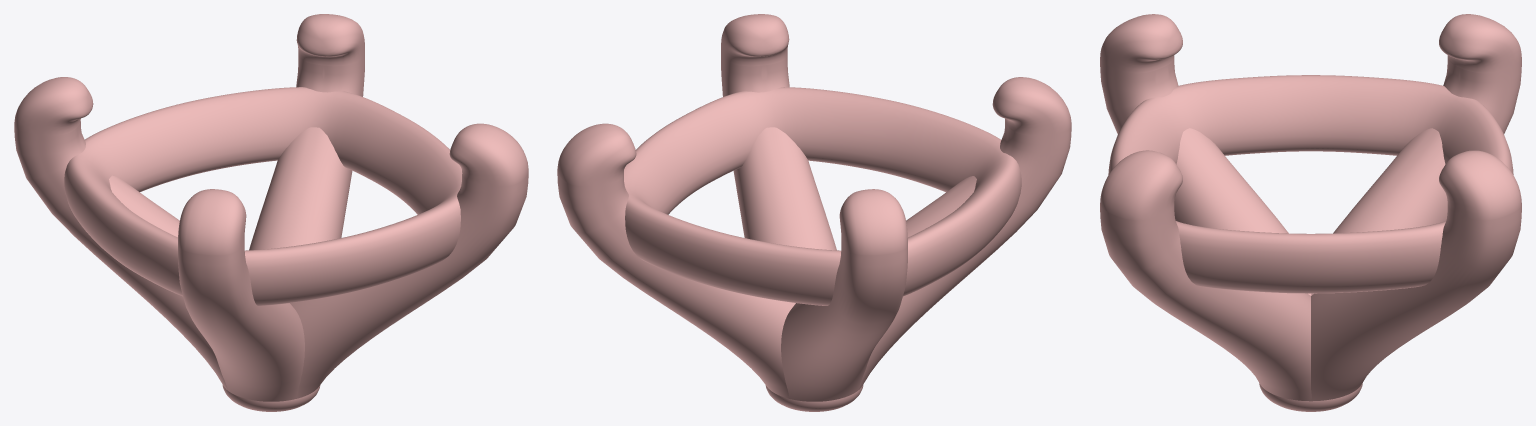
The model's file is ASSCHER.glb.
3 renders of one model, left to right at view 1: azimuth 30°, elevation 25°; view 2: azimuth 150°, elevation 25°; view 3: azimuth 270°, elevation 25°, orthographic. The views are drawn at different scales.
Parts seen in each view (by area): view 1: cushion; view 2: cushion; view 3: cushion.
Part boxes in pixels (x1,y1,x2,y2): cushion: [14, 14, 528, 411]; cushion: [557, 14, 1071, 411]; cushion: [1100, 14, 1521, 411].
Size of the model in its own units: 5.25 by 4.3 by 5.24.
